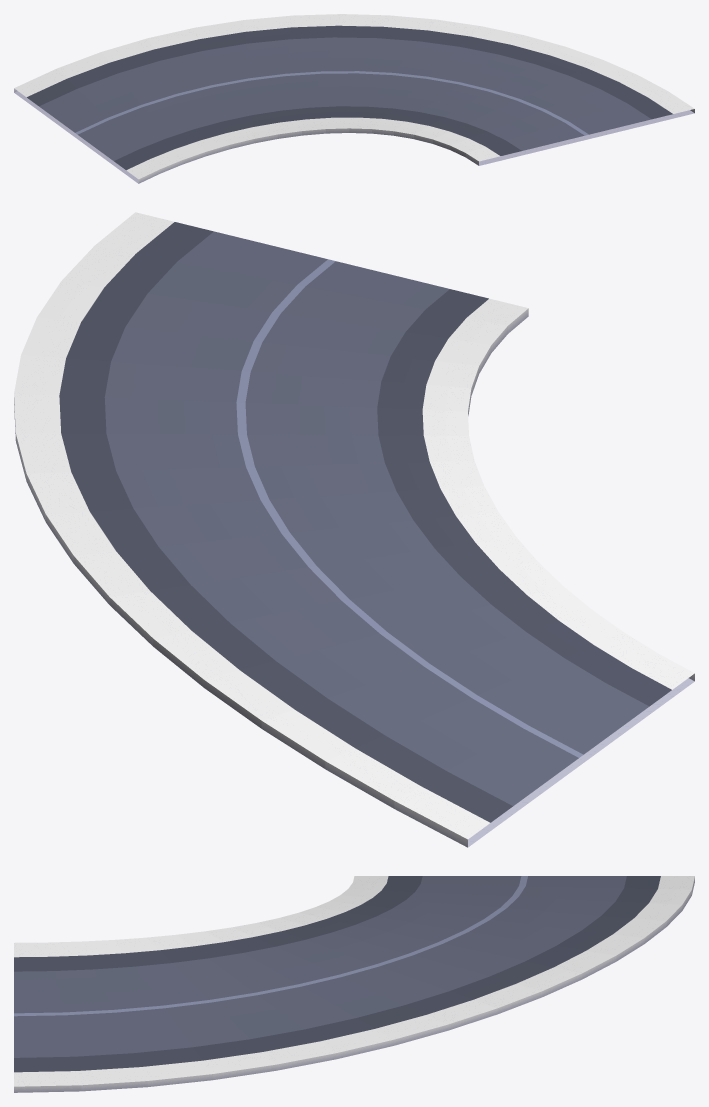
File: road-Turn-Flat-BiSlopeDown-Down1-Left-Size2.glb
The picture shows the model from 3 angles, top to bottom: view 1: azimuth 30°, elevation 25°; view 2: azimuth 150°, elevation 25°; view 3: azimuth 270°, elevation 25°; orthographic projection. The views are drawn at different scales.
Parts seen in each view (by area): view 1: road-Turn-Flat-BiSlopeDown-Down1-Left-Size2; view 2: road-Turn-Flat-BiSlopeDown-Down1-Left-Size2; view 3: road-Turn-Flat-BiSlopeDown-Down1-Left-Size2.
Part boxes in pixels (x1=…): road-Turn-Flat-BiSlopeDown-Down1-Left-Size2: x1=14, y1=14, x2=694, y2=183; road-Turn-Flat-BiSlopeDown-Down1-Left-Size2: x1=14, y1=212, x2=694, y2=847; road-Turn-Flat-BiSlopeDown-Down1-Left-Size2: x1=14, y1=876, x2=694, y2=1092.
Bounding box in the file's own units: 2 × 0.2706 × 2.
1 material, 1 textured.
